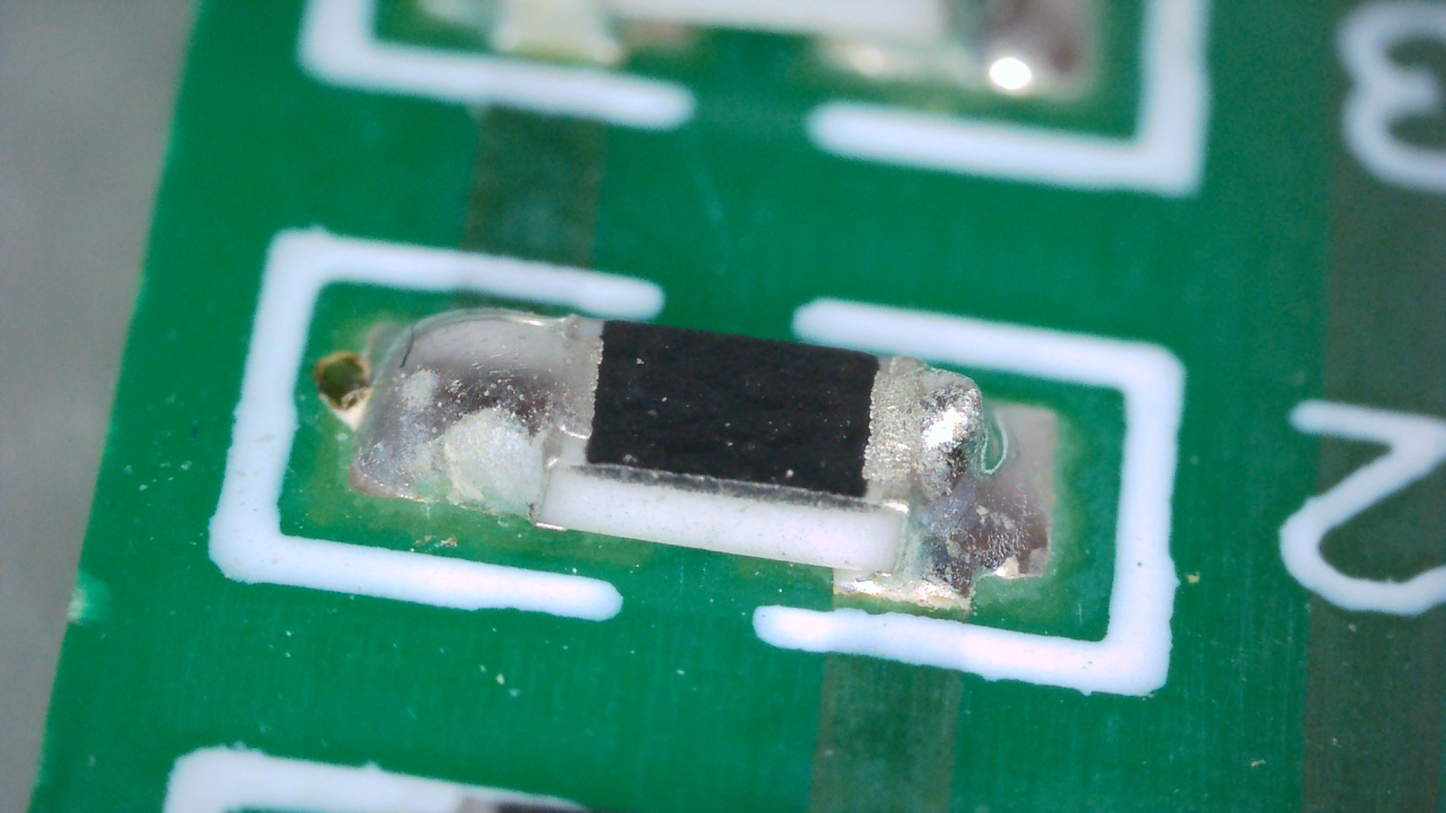NG: (357, 309, 603, 523), (911, 371, 986, 525)
